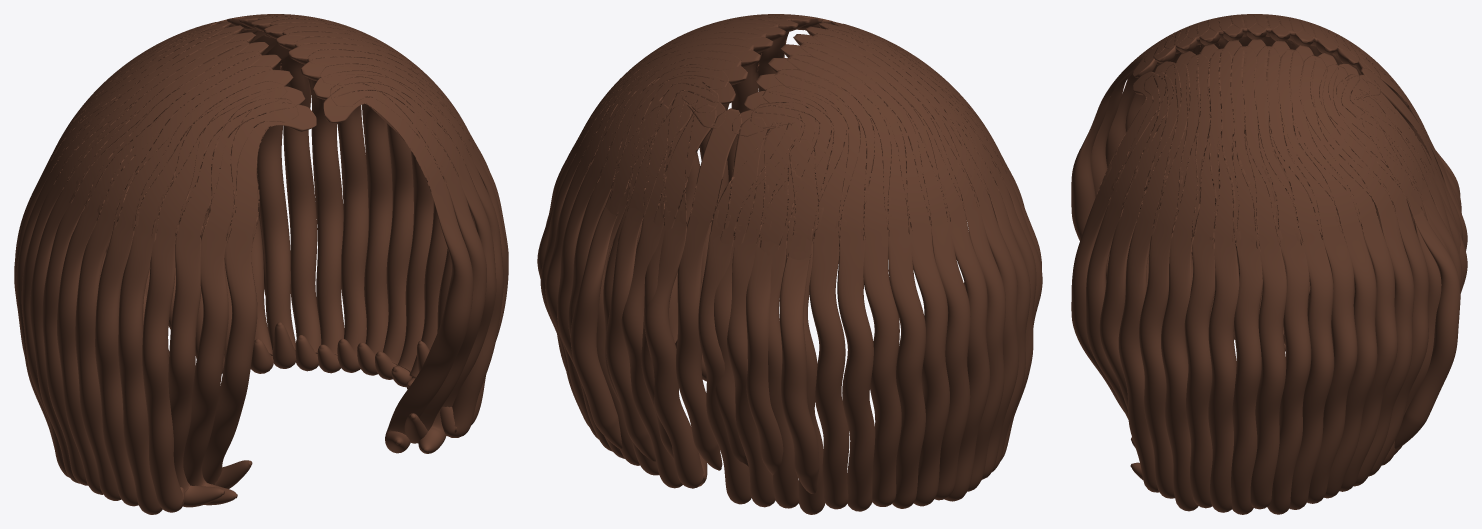
The model's file is Masculine-locs-covered-hair.glb.
3 views of the same model, side by side, from view 1: azimuth 30°, elevation 25°; view 2: azimuth 150°, elevation 25°; view 3: azimuth 270°, elevation 25° (orthographic). The views are drawn at different scales.
Visible parts, largest first — view 1: 226 hair / Hair / loc texture227; view 2: 226 hair / Hair / loc texture227; view 3: 226 hair / Hair / loc texture227.
Part boxes in pixels (<box>): 226 hair / Hair / loc texture227: <box>14,14,508,514</box>; 226 hair / Hair / loc texture227: <box>537,14,1042,514</box>; 226 hair / Hair / loc texture227: <box>1071,14,1467,514</box>.
Bounding box in the file's own units: 1.07 × 0.9501 × 0.8558.
